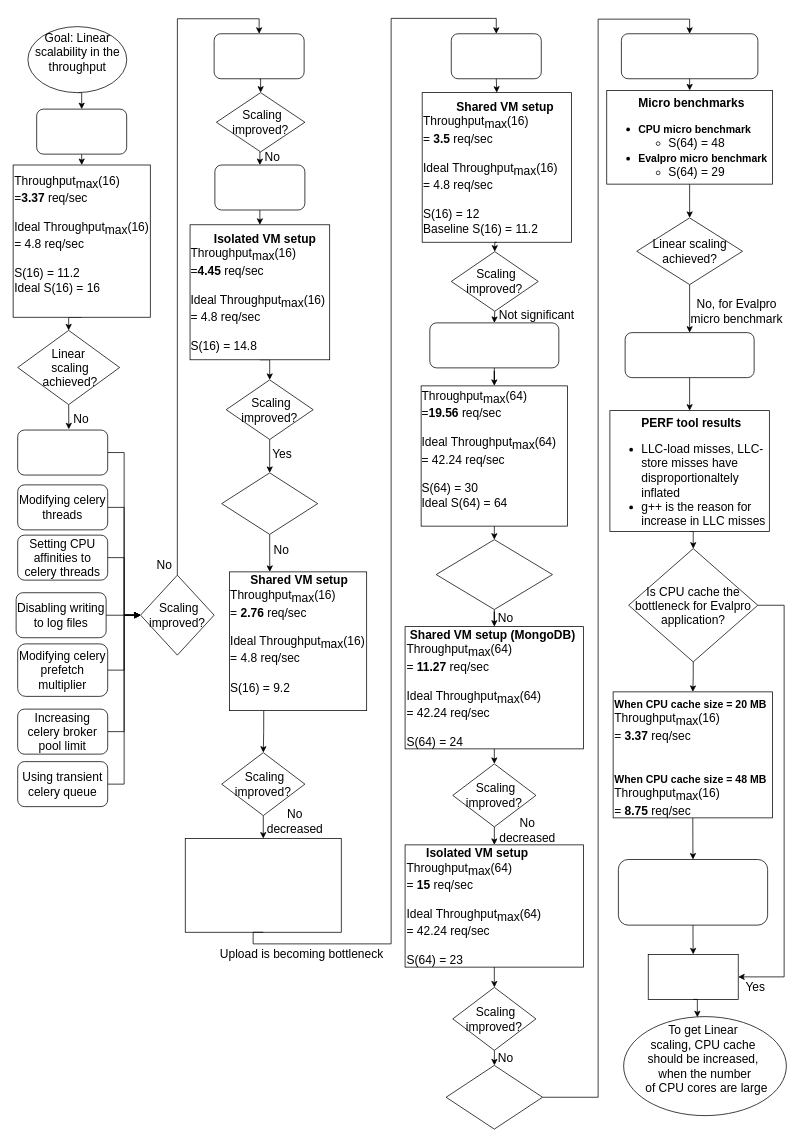
The diagram is 805 pixels wide and 1142 high, and some of its shapes have lost their labels. Here are the shapes that lost their labels. From the top down, the centre of each, then its label:
At (x=258, y=56): "Scaling with Docker swarm".
At (x=496, y=56): "MongoDb used for uploading".
At (x=689, y=56): "Peform micro benchmark experiments".
At (x=81, y=131): "Perform baseline experiments".
At (x=259, y=187): "Scaling with KVM-QEMU".
At (x=494, y=345): "Perform baseline experiments on 64 CPU cores".
At (x=689, y=355): "PERF tool to profile Evalpro micro benchmark".
At (x=62, y=452): "Increasing gunicorn workers".
At (x=269, y=503): "Is it desired solution?".
At (x=493, y=574): "Linearly scaling achieved?".
At (x=262, y=885): "Shared VM setup Without upload S(16) = 13 Only Upload S(16) = 4.72".
At (x=693, y=892): "Throughput proportionally increased with CPU cache size".
At (x=692, y=976): "CPU cache is the bottleneck".
At (x=494, y=1097): "Can't we improve scaling?".
